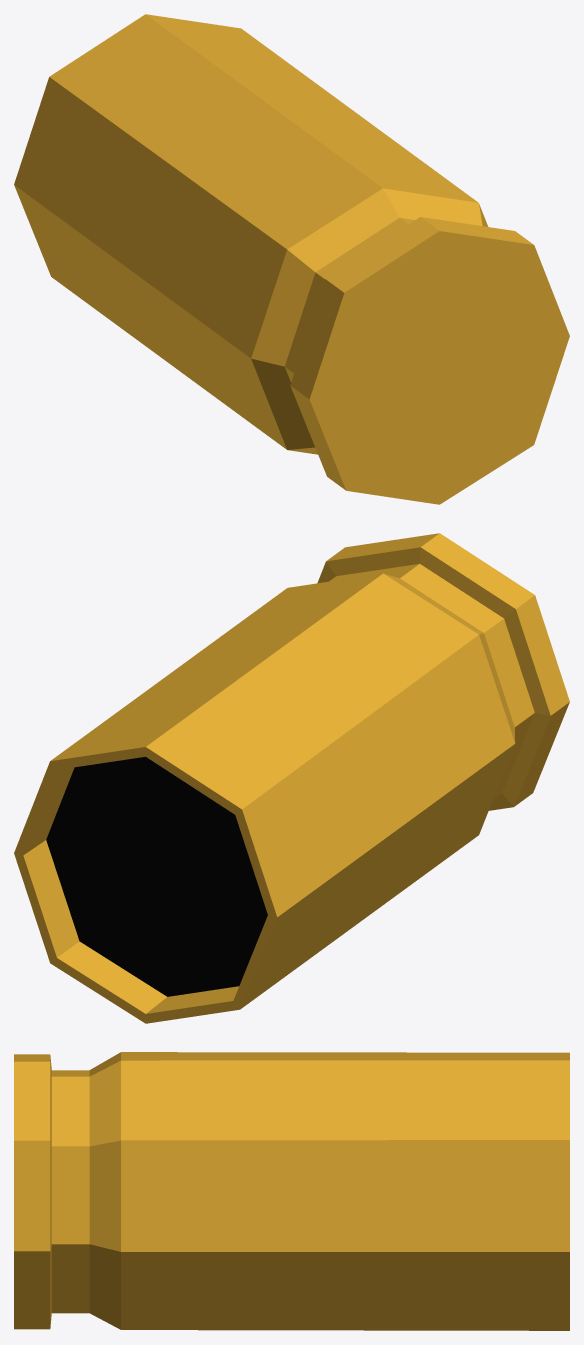
File: CasingParabellum.glb
The picture shows the model from 3 angles, top to bottom: view 1: azimuth 30°, elevation 25°; view 2: azimuth 150°, elevation 25°; view 3: azimuth 270°, elevation 25°; orthographic projection. The views are drawn at different scales.
Parts seen in each view (by area): view 1: Casing; view 2: Casing; view 3: Casing.
Part boxes in pixels (x1,y1,x2,y2): Casing: (14,14,569,504); Casing: (14,533,569,1023); Casing: (14,1052,569,1330).
Bounding box in the file's own units: 0.8875 × 0.8898 × 1.71.
